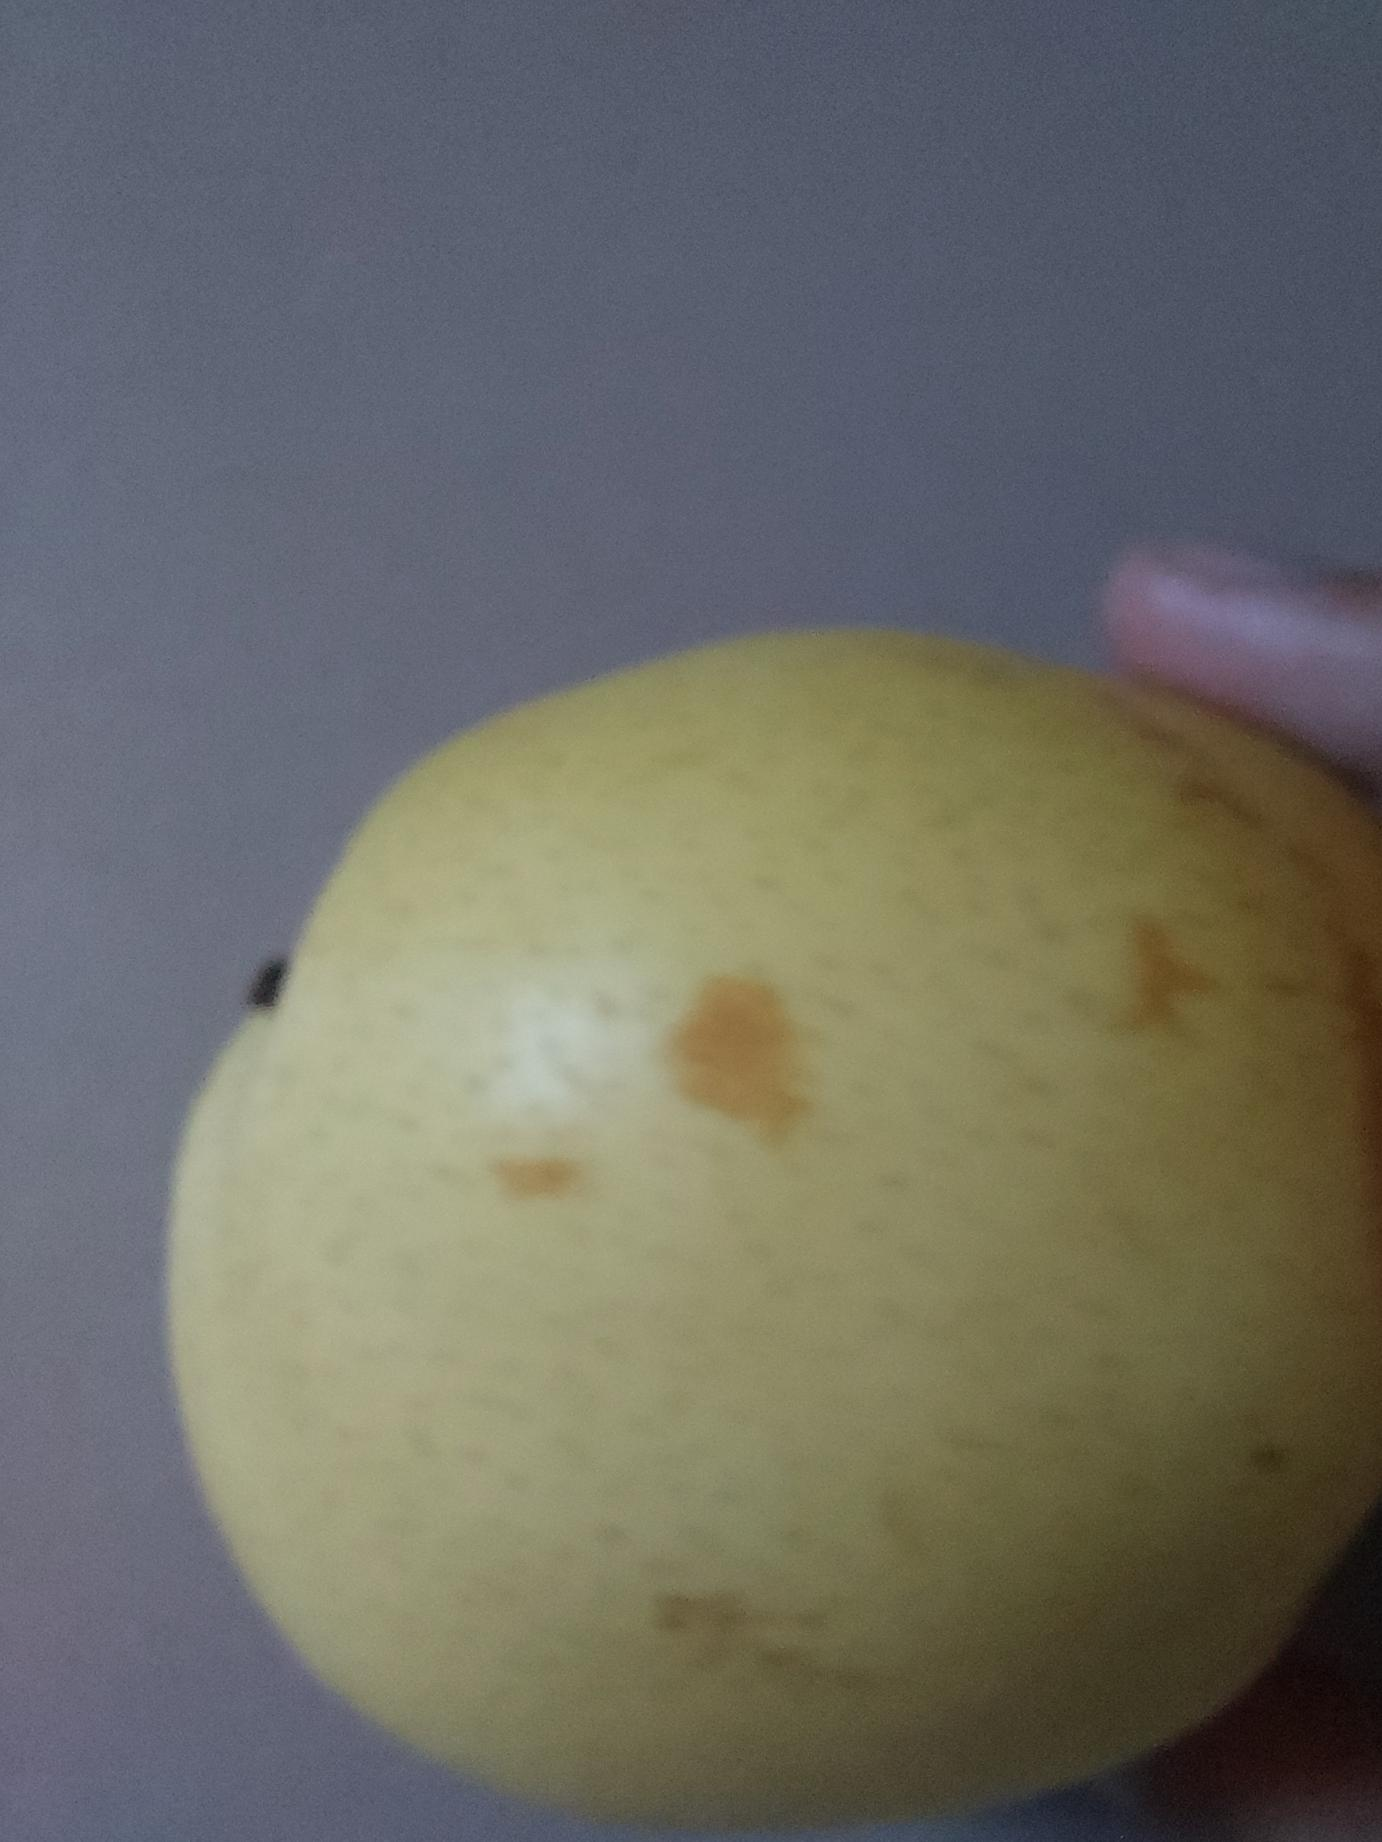Good Pear: (146, 598, 1382, 1842)
